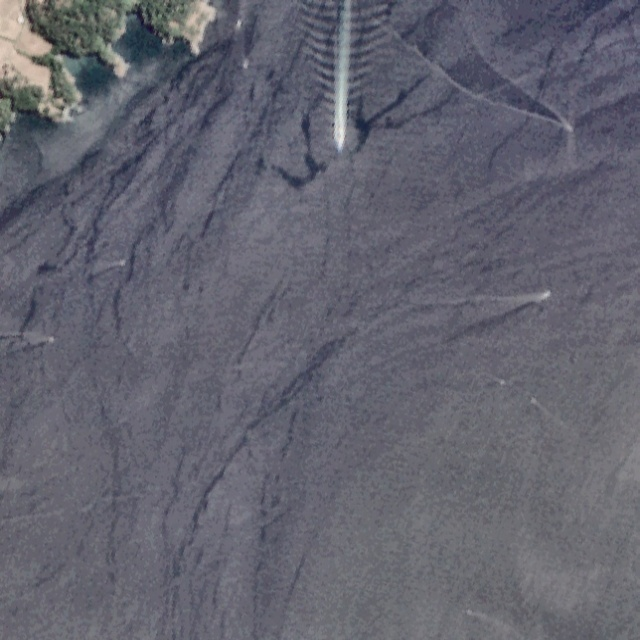wake: (296, 6, 387, 155)
